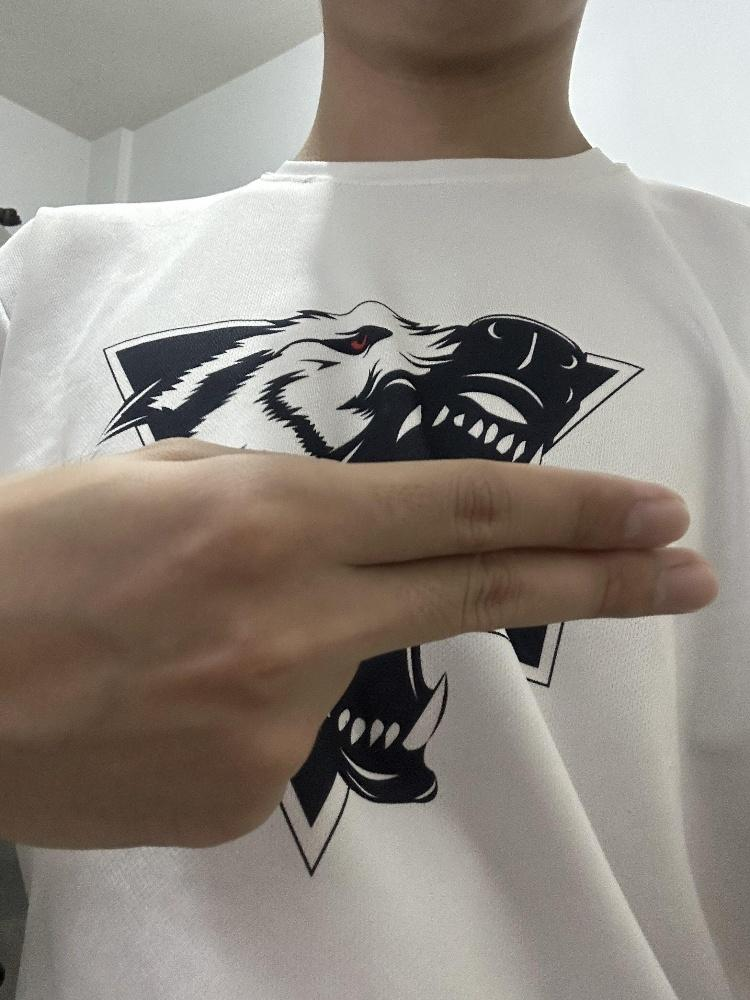h: (0, 431, 719, 855)
